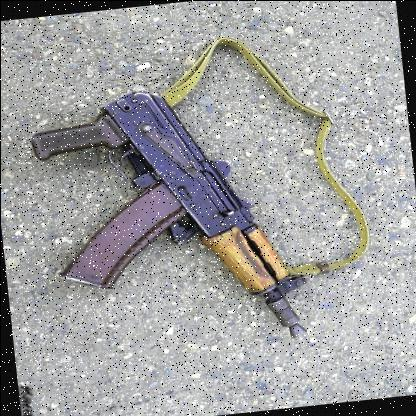rifle: (19, 61, 349, 364)
